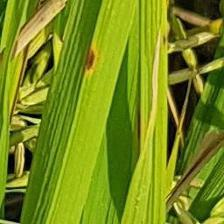0 BrownSpot: (81, 40, 98, 74)
